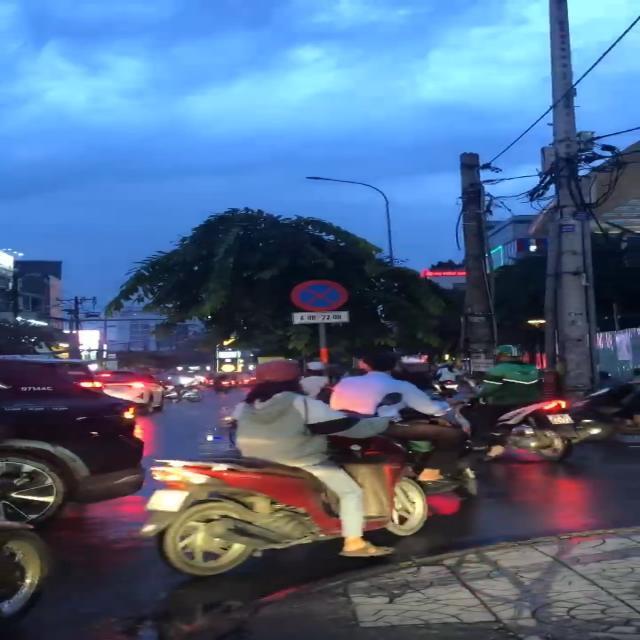Bien bao cam dung xe va do xe: (286, 278, 357, 313)
